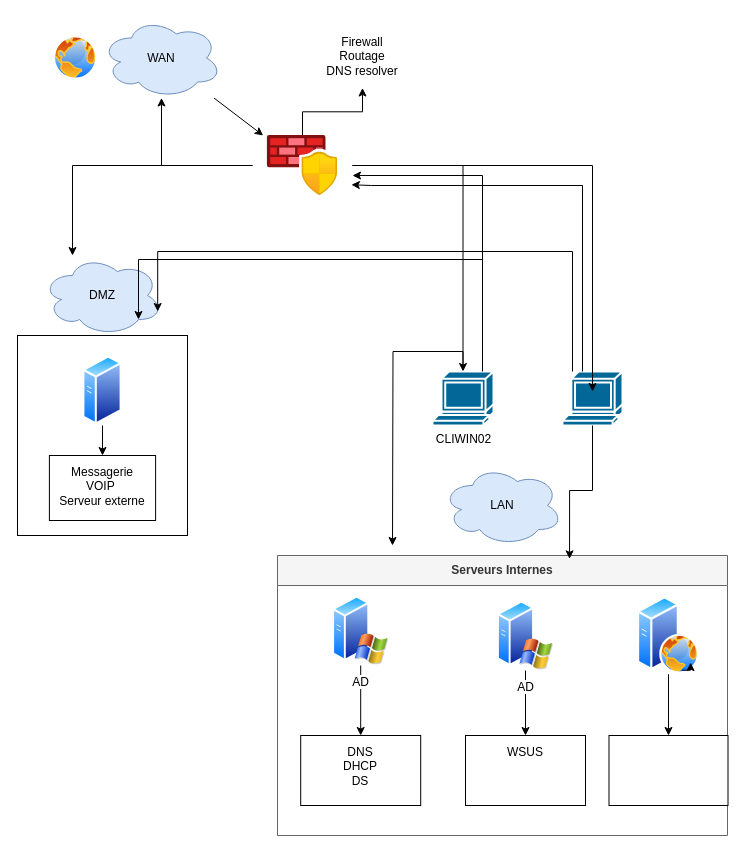
Image size: 746x853. Some labels were removed from this diagram. Here are the shapes that lost their labels. From the top down, the centre of each, then its label:
At [302,165]: "Pare-feu pfsense".
At [102,390]: "Debian".
At [592,398]: "CLIWIN01".
At [668,635]: "Serveur web Interne".
At [668,770]: "GLPI Intranet".
